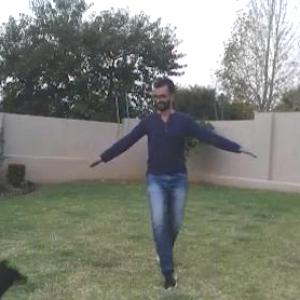land: (85, 54, 299, 299)
